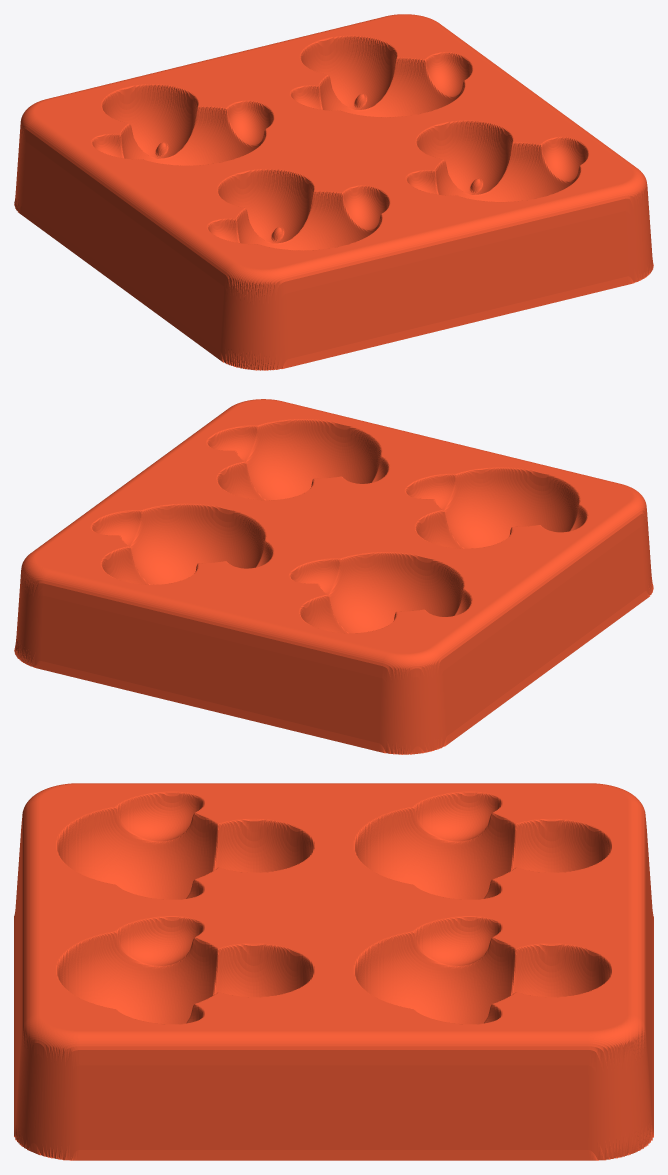
File: mold.glb
3 views of the same model, one above another, from view 1: azimuth 30°, elevation 25°; view 2: azimuth 150°, elevation 25°; view 3: azimuth 270°, elevation 25° (orthographic). The views are drawn at different scales.
Parts seen in each view (by area): view 1: geometry_0; view 2: geometry_0; view 3: geometry_0.
Part boxes in pixels (bbox=[...]): geometry_0: bbox=[14, 14, 653, 370]; geometry_0: bbox=[14, 399, 653, 754]; geometry_0: bbox=[14, 783, 653, 1160].
Size of the model in its own units: 0.0878 by 0.0182 by 0.0886.
